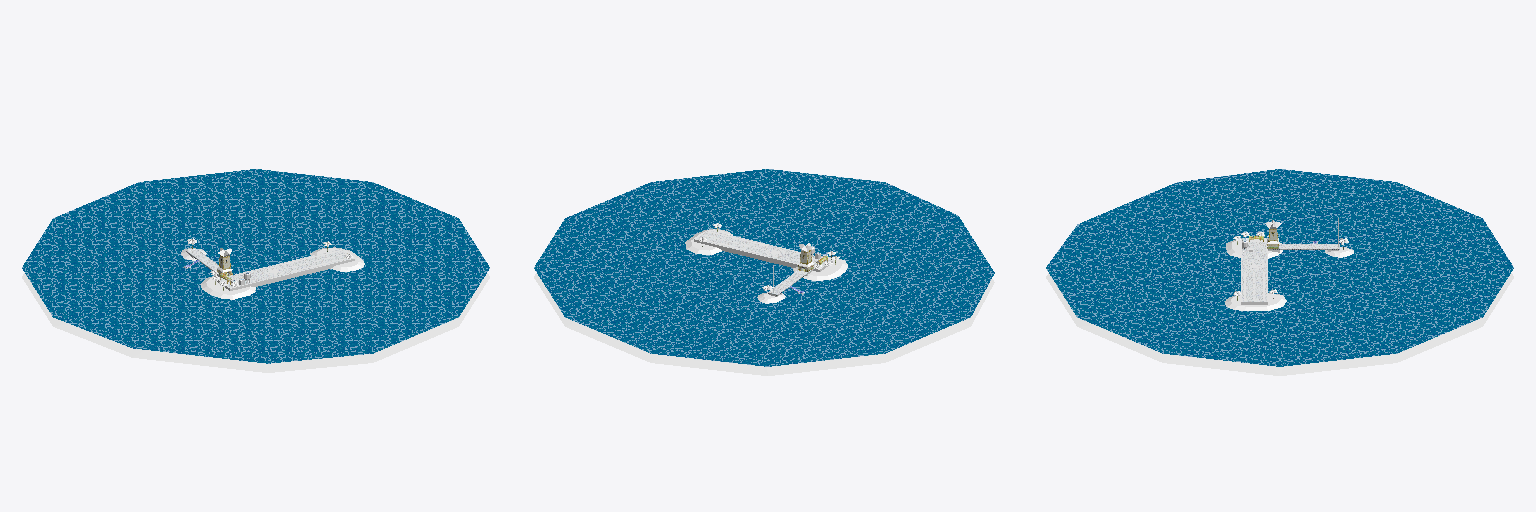
The picture shows the model from 3 angles: view 1: azimuth 30°, elevation 25°; view 2: azimuth 150°, elevation 25°; view 3: azimuth 270°, elevation 25°; orthographic projection.
Visible parts, largest first — view 1: test; view 2: test; view 3: test.
Boxes of the visible parts, x1=… form: test: x1=22, y1=169, x2=489, y2=372; test: x1=534, y1=169, x2=994, y2=375; test: x1=1046, y1=169, x2=1513, y2=375.
Size of the model in its own units: 61.42 by 6.15 by 61.42.
Materials: 27 (16 with a texture image).